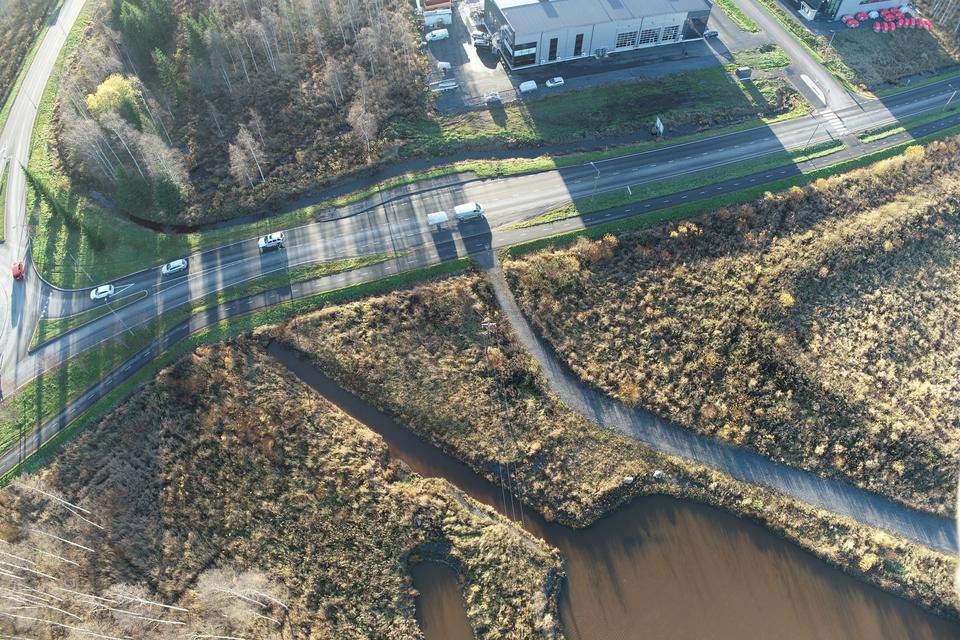intersection: (778, 74, 908, 205), (452, 158, 537, 303)
roundabout: (0, 149, 96, 420)
